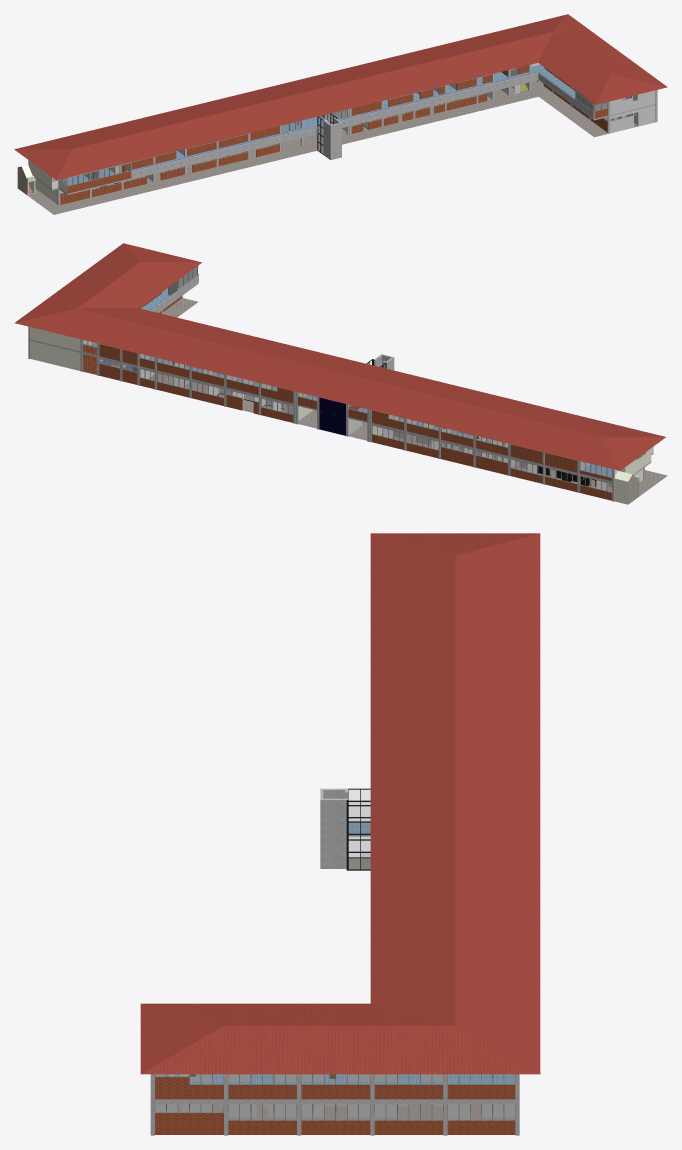
File: EdificioPrincipal.fbx
The picture shows the model from 3 angles, top to bottom: view 1: azimuth 30°, elevation 25°; view 2: azimuth 150°, elevation 25°; view 3: azimuth 270°, elevation 25°; orthographic projection. The views are drawn at different scales.
Visible parts, largest first — view 1: Edificio; view 2: Edificio; view 3: Edificio.
Boxes of the visible parts, x1=… form: Edificio: x1=14, y1=14, x2=667, y2=214; Edificio: x1=14, y1=243, x2=667, y2=504; Edificio: x1=140, y1=533, x2=540, y2=1135.
Bounding box in the file's own units: 10531 × 749 × 3283.
34 materials, 19 textured.
